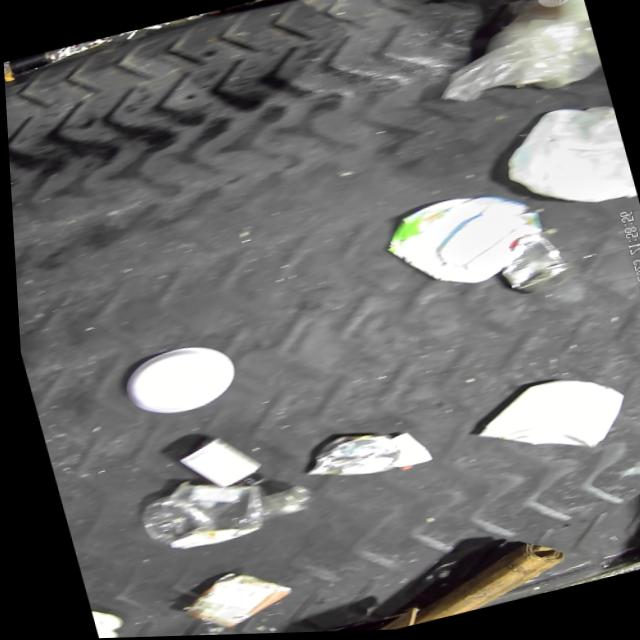can: (167, 559, 291, 637), (486, 226, 581, 303), (291, 424, 399, 491)
milk_jug: (487, 97, 635, 227)
plastic_bottle: (121, 451, 316, 561), (3, 59, 20, 102)
